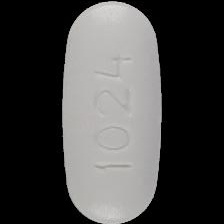16590-166: (0, 0, 224, 224)
